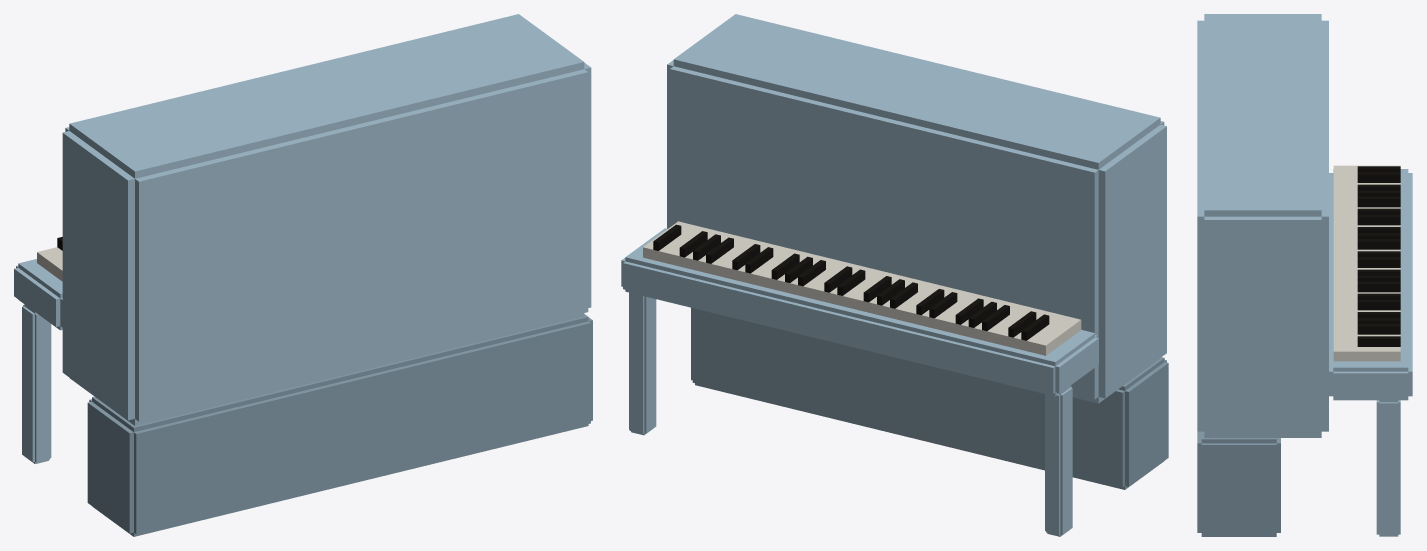
The model's file is glass_piano_v0.glb.
3 renders of one model, left to right at view 1: azimuth 30°, elevation 25°; view 2: azimuth 150°, elevation 25°; view 3: azimuth 270°, elevation 25°, orthographic. The views are drawn at different scales.
Visible parts, largest first — view 1: glass_piano_v0; view 2: glass_piano_v0; view 3: glass_piano_v0.
Part boxes in pixels (x1,y1,x2,y2): glass_piano_v0: (14,14,592,536); glass_piano_v0: (621,14,1168,536); glass_piano_v0: (1197,14,1412,536).
Bounding box in the file's own units: 2 × 1.5 × 0.9.
